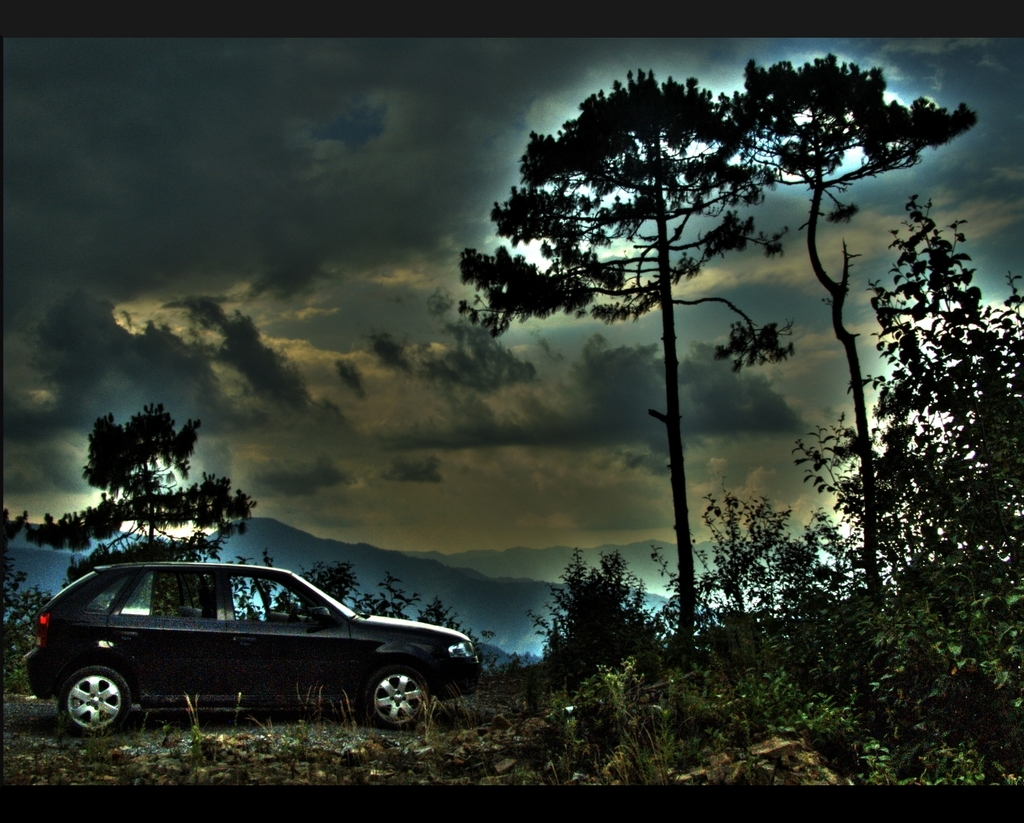Car: (23, 562, 483, 735)
